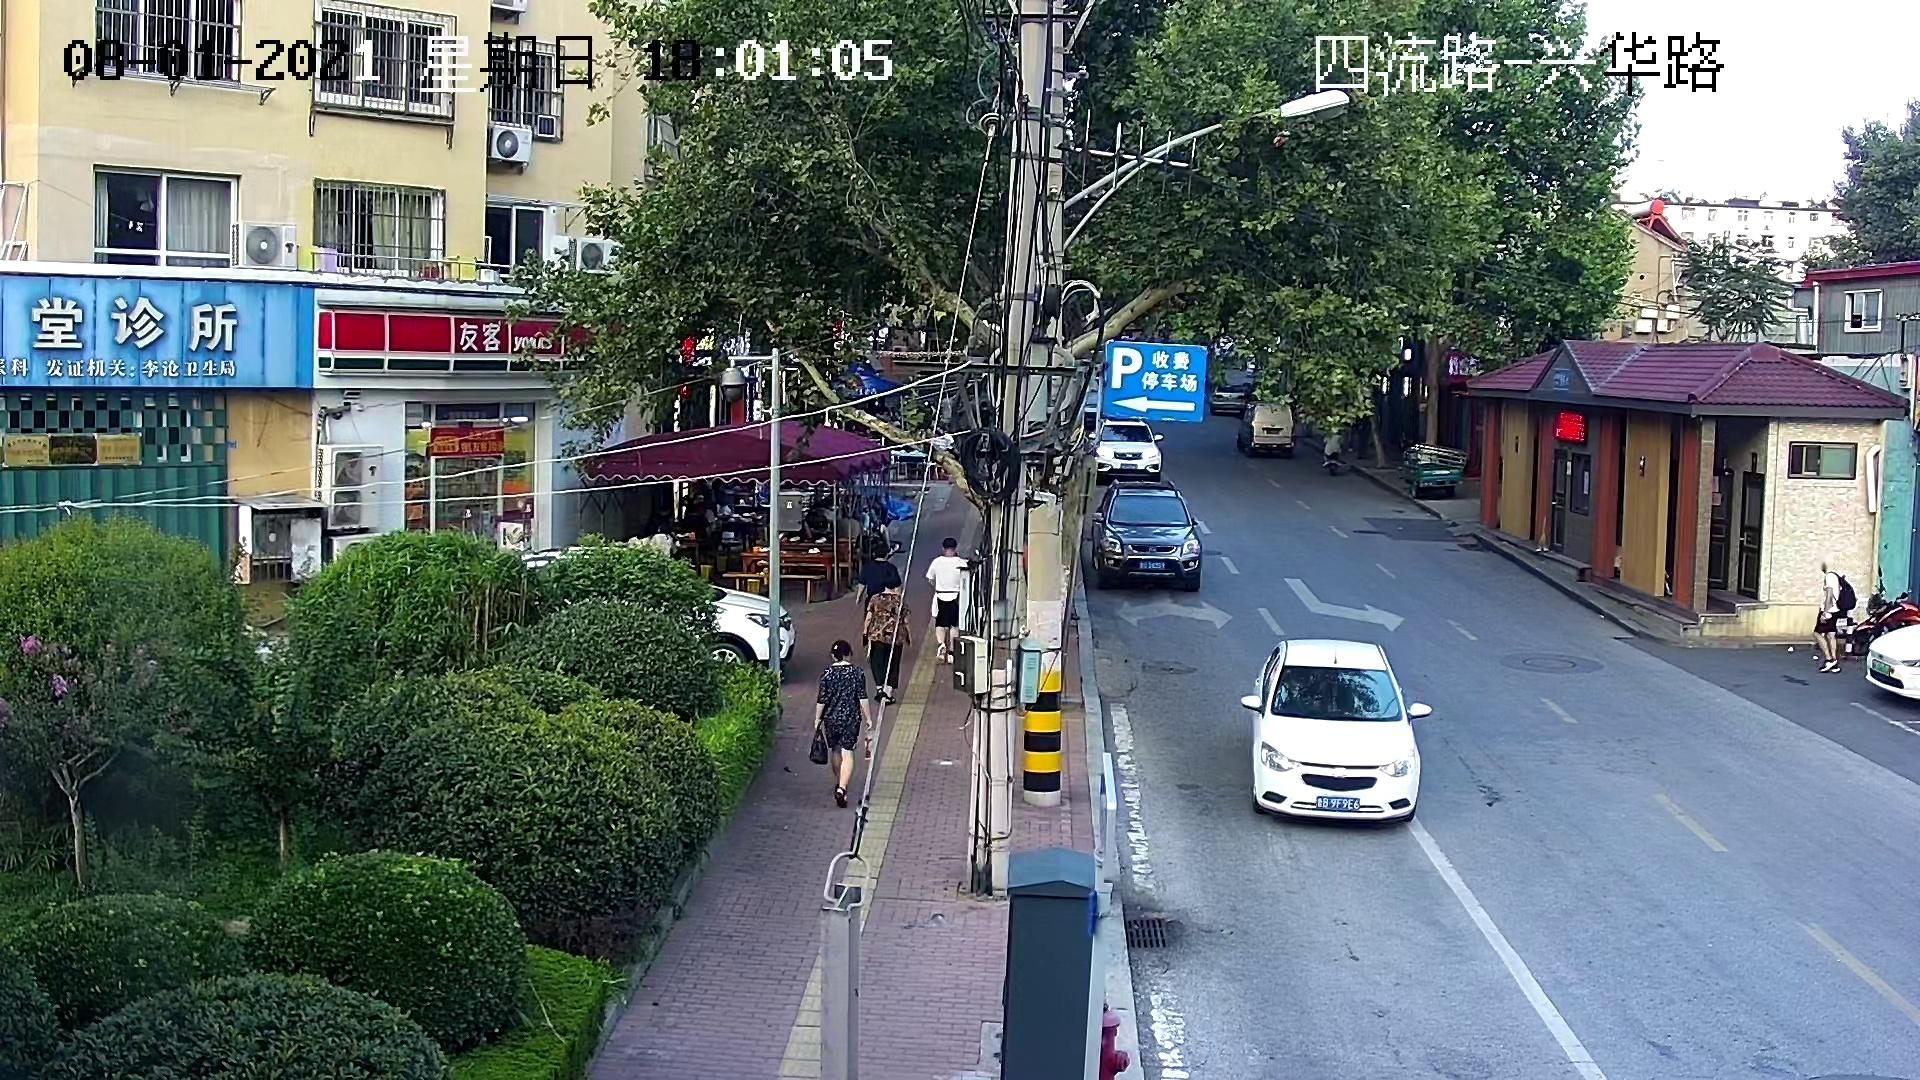umbrella: (571, 418, 891, 487), (818, 357, 915, 404)
uncertain: (640, 491, 878, 605), (837, 434, 963, 483)
